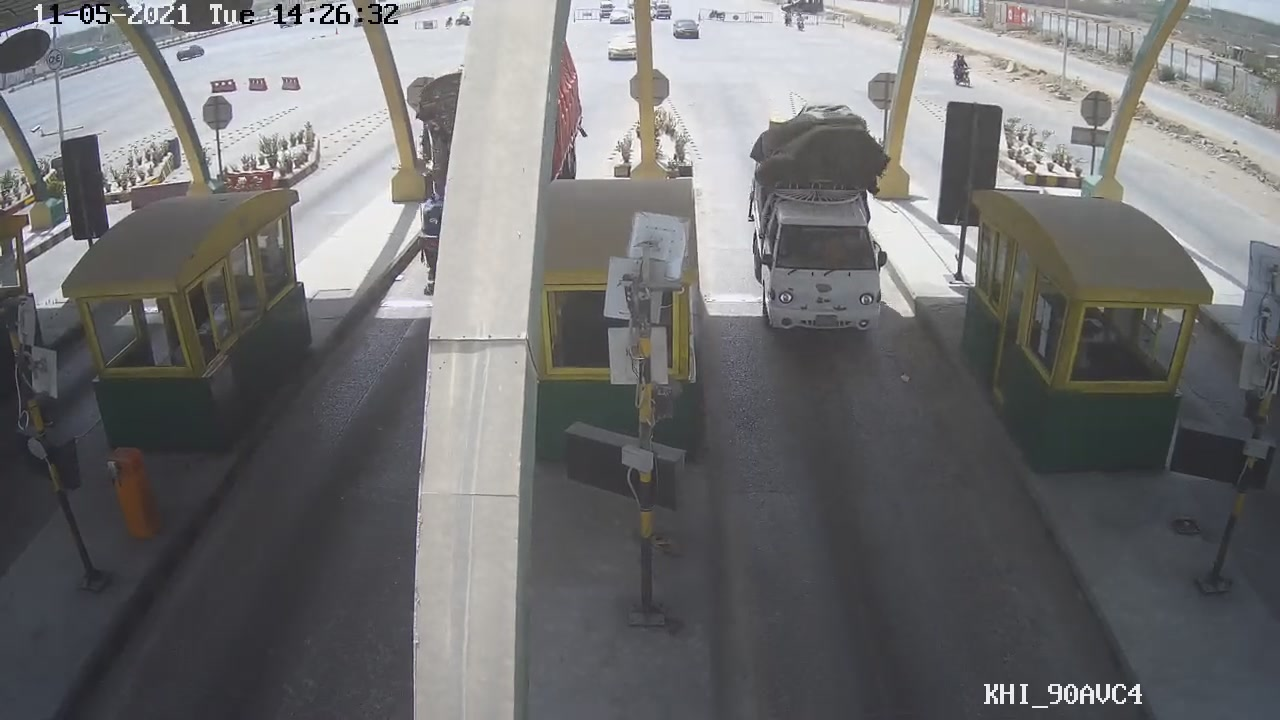F2: (744, 113, 890, 348)
